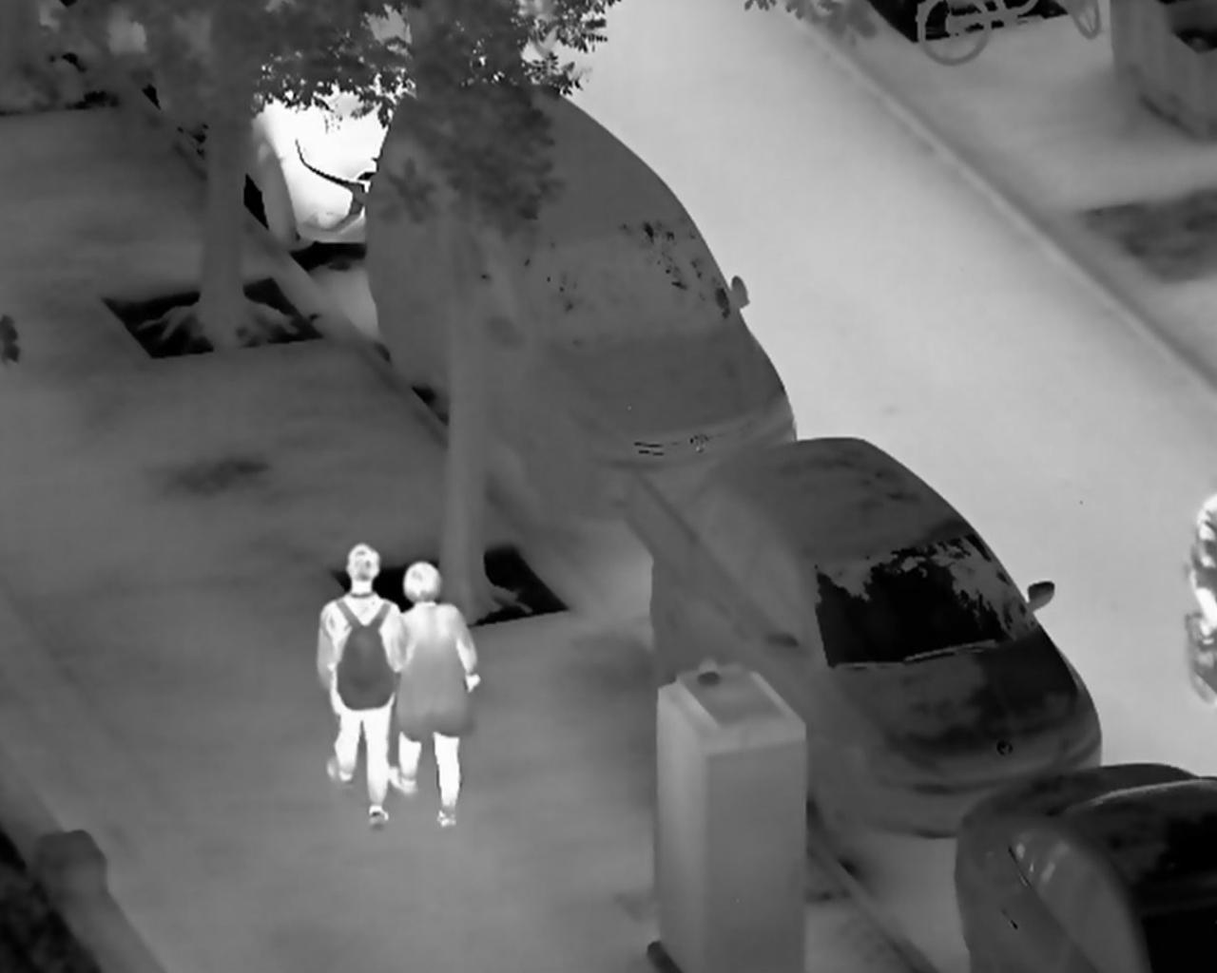person: (313, 540, 406, 831), (394, 557, 484, 829)
